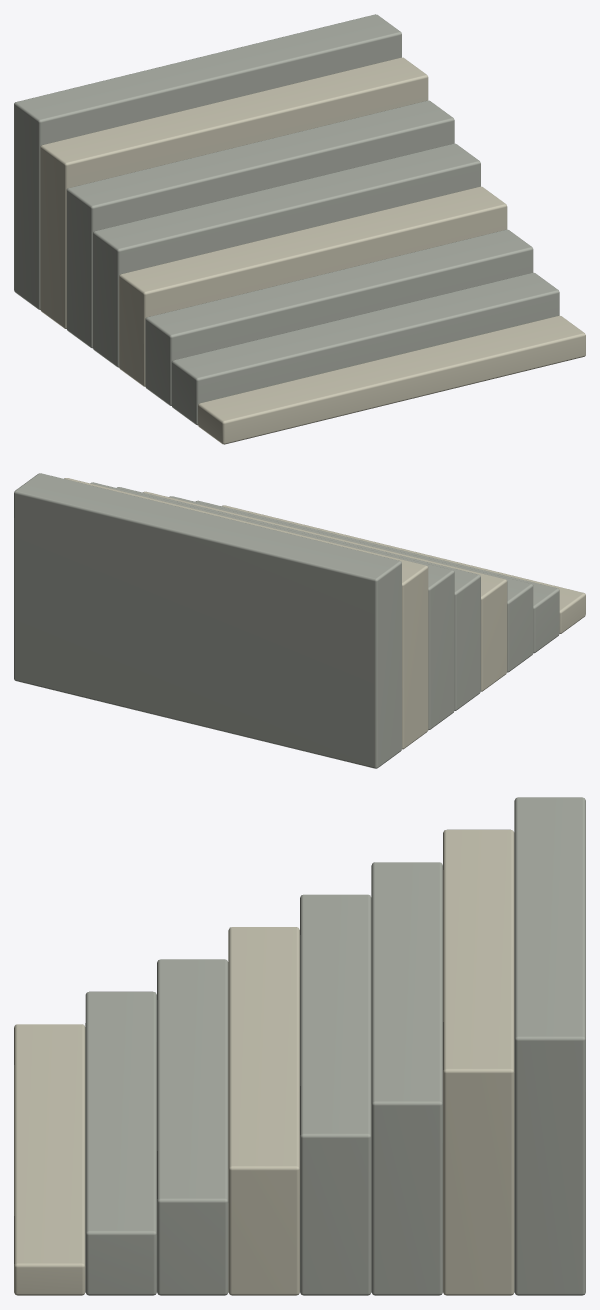
Rendered from SM_Stairs_Stone_4x4.fbx.
The picture shows the model from 3 angles, top to bottom: view 1: azimuth 30°, elevation 25°; view 2: azimuth 150°, elevation 25°; view 3: azimuth 270°, elevation 25°; orthographic projection. The views are drawn at different scales.
Parts seen in each view (by area): view 1: SM_Stairs_Stone_4x4; view 2: SM_Stairs_Stone_4x4; view 3: SM_Stairs_Stone_4x4.
Boxes of the visible parts, x1,y1,x2,y2 form: SM_Stairs_Stone_4x4: [14, 14, 585, 444]; SM_Stairs_Stone_4x4: [14, 473, 585, 768]; SM_Stairs_Stone_4x4: [14, 797, 585, 1295].
Size of the model in its own units: 4 by 2 by 4.
